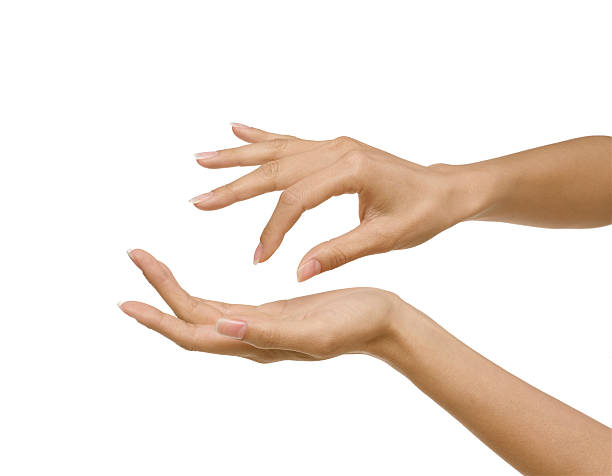non-diseased: (134, 123, 451, 361)
